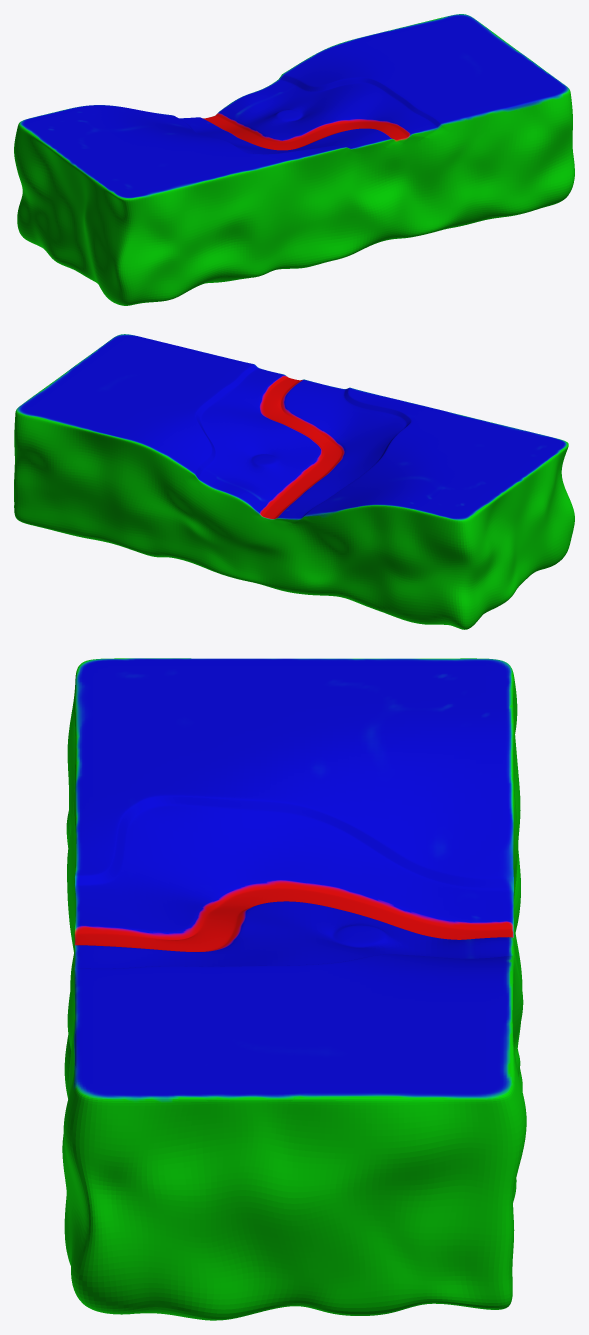
The model's file is level_one_raised_ground_5.fbx.
3 renders of one model, top to bottom at view 1: azimuth 30°, elevation 25°; view 2: azimuth 150°, elevation 25°; view 3: azimuth 270°, elevation 25°, orthographic. The views are drawn at different scales.
Visible parts, largest first — view 1: RaisedGround05; view 2: RaisedGround05; view 3: RaisedGround05.
Part boxes in pixels (bbox=[...]): RaisedGround05: bbox=[14, 14, 574, 305]; RaisedGround05: bbox=[14, 334, 574, 629]; RaisedGround05: bbox=[62, 658, 526, 1320].
Bounding box in the file's own units: 5874 × 1437 × 2555.
